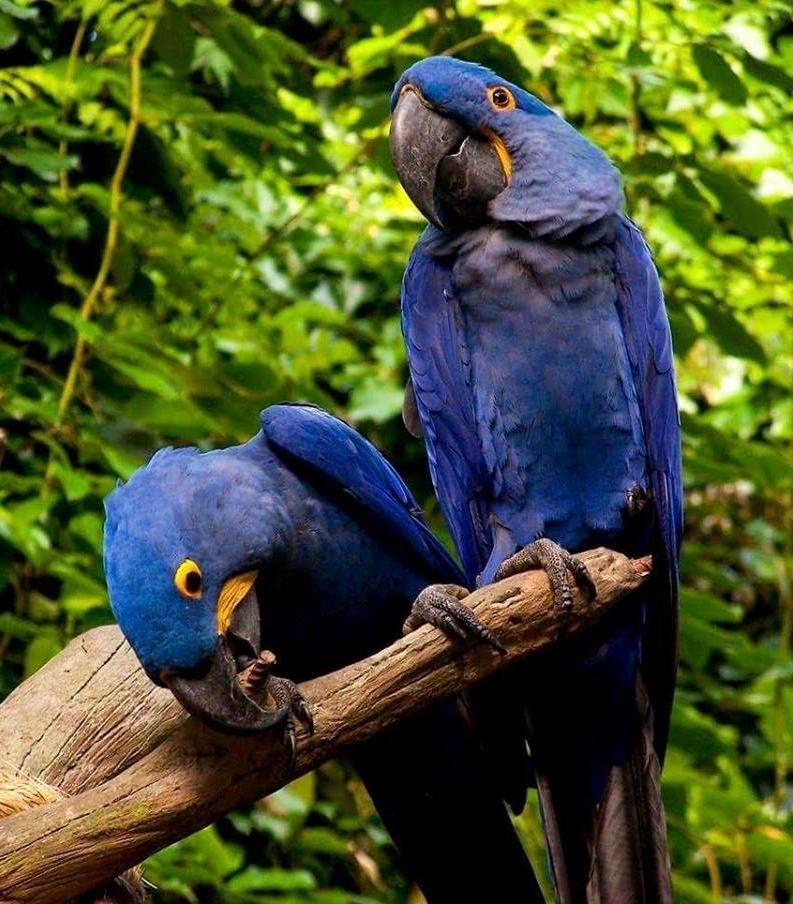guacamaya: (382, 46, 685, 904), (69, 261, 374, 812)
